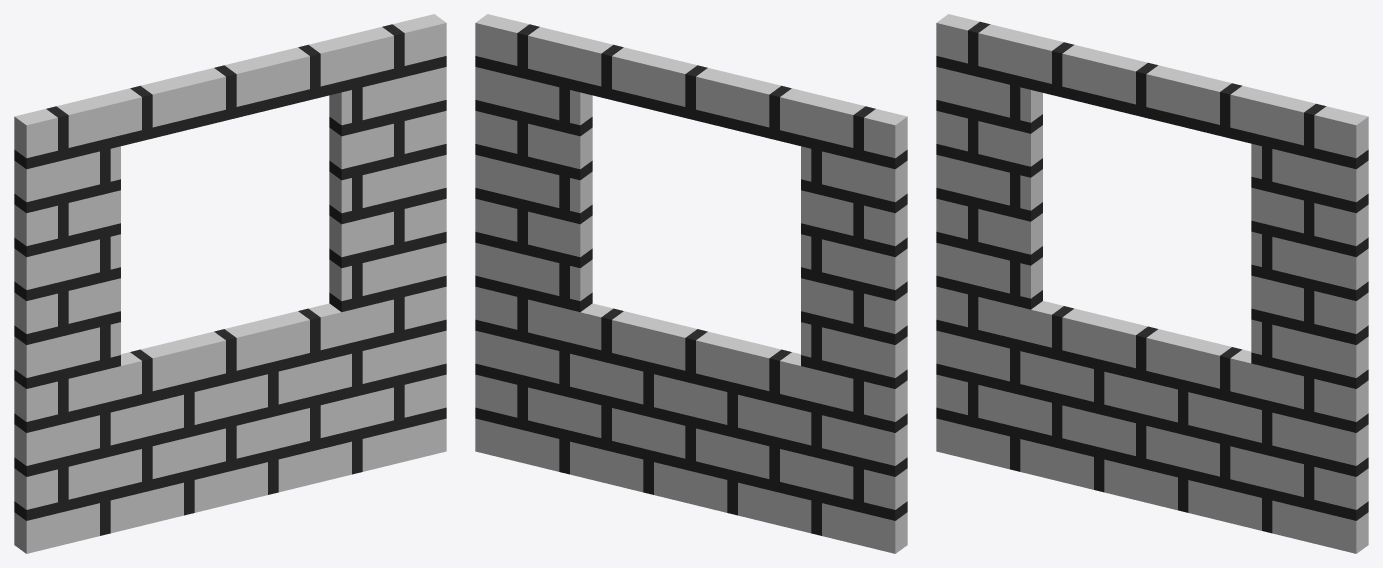
File: ConstructionMaterials-36.obj
3 renders of one model, left to right at view 1: azimuth 30°, elevation 25°; view 2: azimuth 150°, elevation 25°; view 3: azimuth 330°, elevation 25°, orthographic.
Size of the model in its own units: 4 by 3.9 by 0.2.
Materials: 1 (1 with a texture image).
